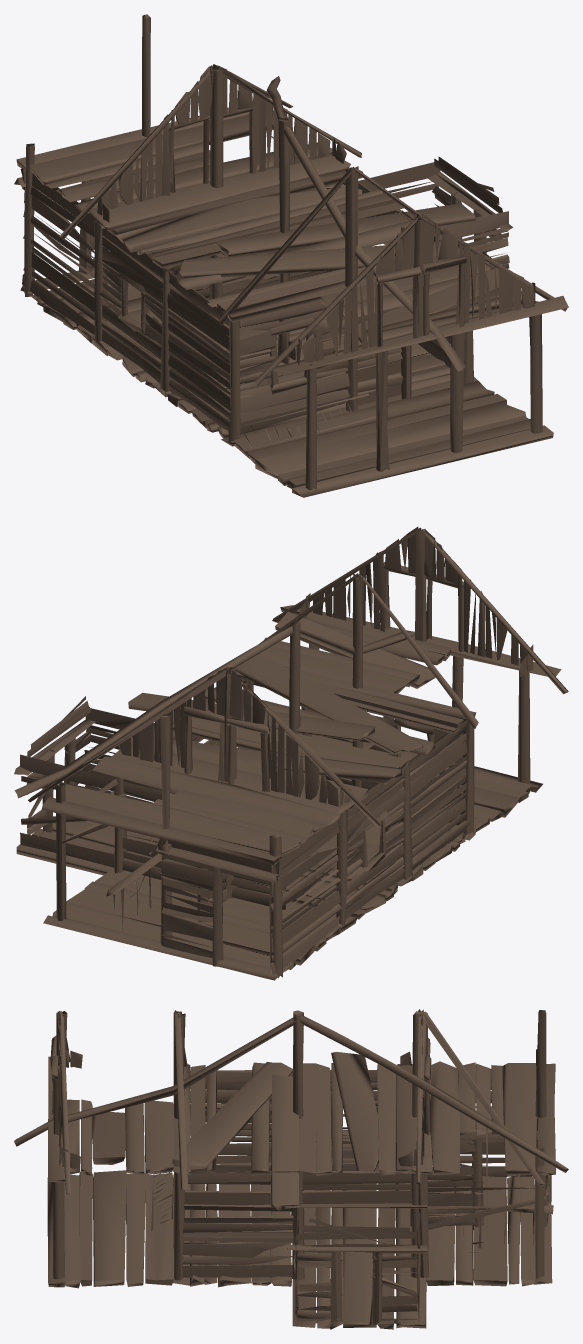
The picture shows the model from 3 angles, top to bottom: view 1: azimuth 30°, elevation 25°; view 2: azimuth 150°, elevation 25°; view 3: azimuth 270°, elevation 25°; orthographic projection. The views are drawn at different scales.
Parts seen in each view (by area): view 1: Cylinder.006; view 2: Cylinder.006; view 3: Cylinder.006.
Part boxes in pixels (box(x1,y1,x2,y2)): Cylinder.006: box(14, 14, 568, 497); Cylinder.006: box(14, 526, 568, 980); Cylinder.006: box(14, 1009, 568, 1329).
Size of the model in its own units: 1331 by 829 by 1866.
